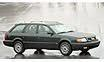Car: (2, 18, 103, 58)
